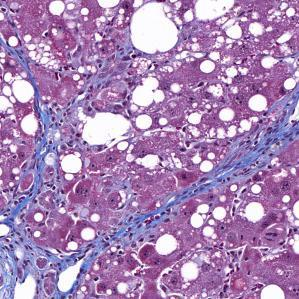fibrosis: (0, 203, 93, 299), (210, 97, 299, 180)
